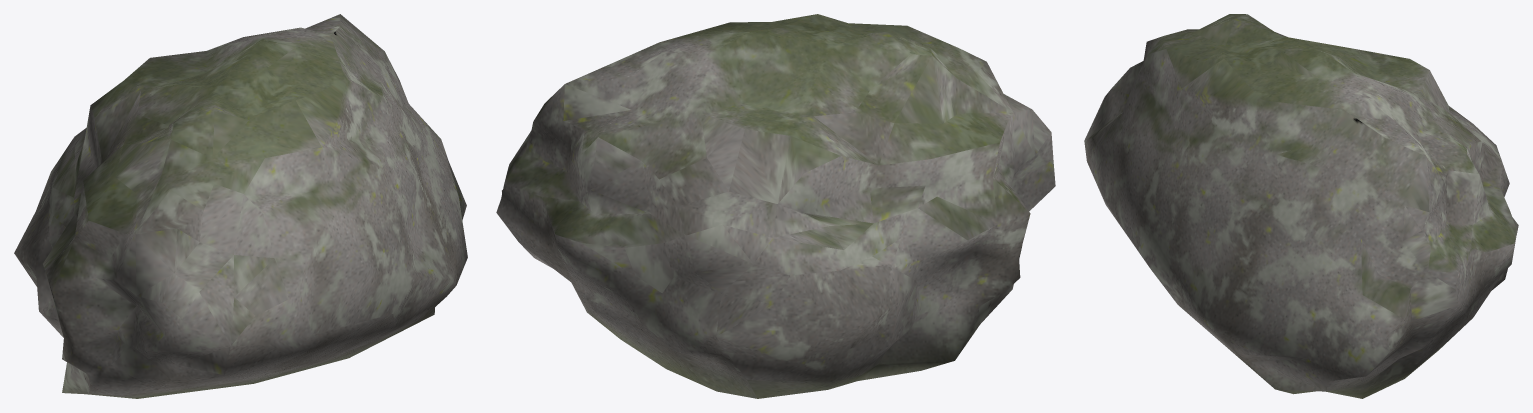
Rendered from boulder_400_LOD1.fbx.
The picture shows the model from 3 angles, left to right: view 1: azimuth 30°, elevation 25°; view 2: azimuth 150°, elevation 25°; view 3: azimuth 270°, elevation 25°; orthographic projection. The views are drawn at different scales.
Visible parts, largest first — view 1: Boulder_400_LOD1; view 2: Boulder_400_LOD1; view 3: Boulder_400_LOD1.
Part boxes in pixels (x1,y1,x2,y2): Boulder_400_LOD1: (14,14,467,398); Boulder_400_LOD1: (496,14,1055,398); Boulder_400_LOD1: (1084,14,1518,398).
Bounding box in the file's own units: 3.75 × 2.37 × 3.17.
1 material, 1 textured.
